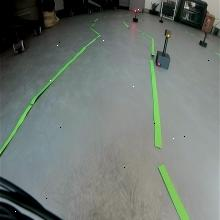green: (165, 28, 172, 39)
red: (134, 9, 137, 13)
